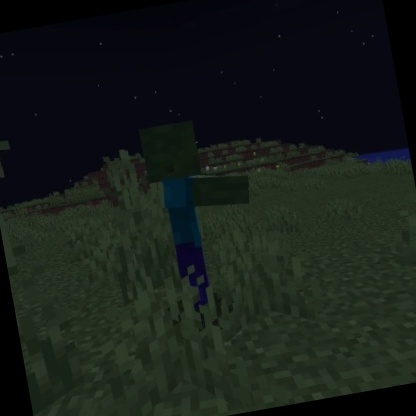zombie: (131, 105, 277, 336)
